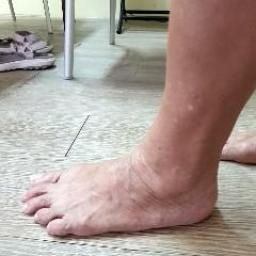Lateral View -Left Foot-: (6, 118, 248, 246)
